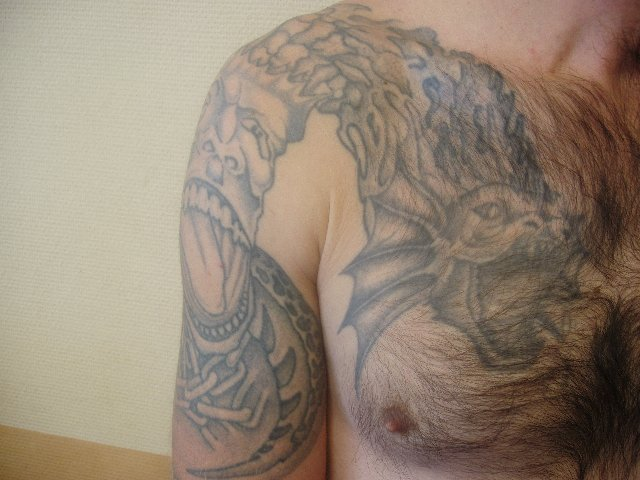tatu6_drakon: (129, 5, 585, 460)
